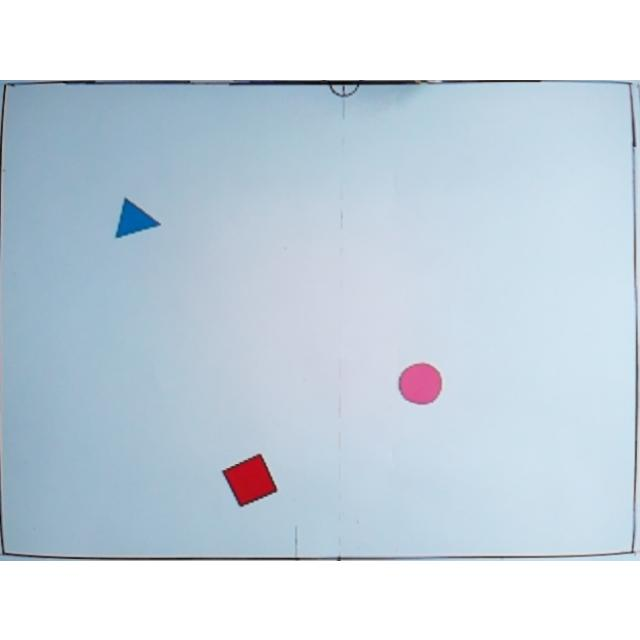blueTriangle: (113, 196, 163, 240)
pinkCircle: (396, 359, 442, 406)
redSquare: (222, 451, 278, 507)
